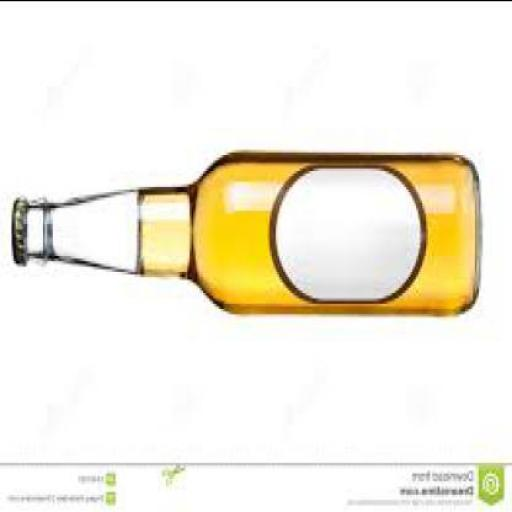glass: (21, 148, 479, 314)
metal: (9, 193, 22, 257)
